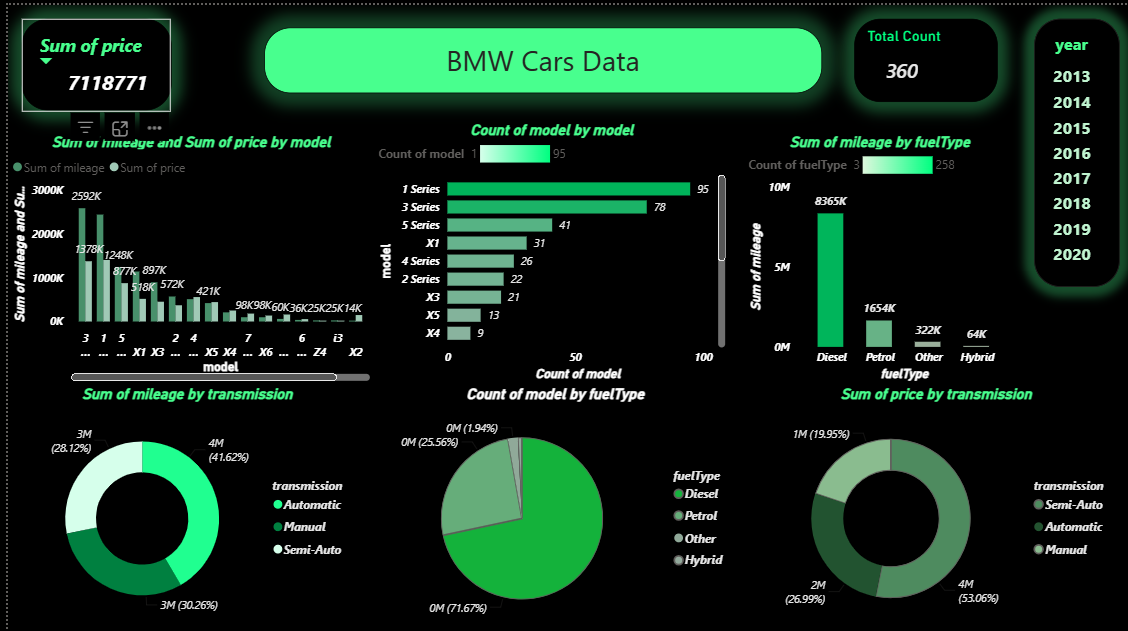

Layout of this report page (visuals, bound fields, positions):
{"tool":"powerbi","page":{"name":"Page 1","canvas":[1280,720],"ordinal":0},"visuals":[{"type":"barChart","fields":{"Category":["bmw.model"],"Y":["CountNonNull(bmw.model)"]},"box":[419.2,145.5,398.1,294.8],"z":0},{"type":"clusteredColumnChart","fields":{"Category":["bmw.fuelType"],"Y":["Sum(bmw.mileage)"]},"box":[841.2,145,310,288.8],"z":1000},{"type":"pieChart","fields":{"Category":["bmw.fuelType"],"Y":["CountNonNull(bmw.model)"]},"box":[410,433.8,431.2,286.2],"z":2000},{"type":"donutChart","fields":{"Category":["bmw.transmission"],"Y":["Sum(bmw.price)"]},"box":[841.2,433.8,438.8,286.2],"z":3000},{"type":"donutChart","fields":{"Category":["bmw.transmission"],"Y":["Sum(bmw.mileage)"]},"box":[0,433.8,410,286.2],"z":4000},{"type":"clusteredColumnChart","fields":{"Category":["bmw.model"],"Y":["Sum(bmw.mileage)","Sum(bmw.price)"]},"box":[0,145,418.8,288.8],"z":5000},{"type":"textbox","box":[292.5,26.2,637.5,75],"z":6000},{"type":"tableEx","fields":{"Values":["Sum(bmw.price)"]},"box":[15,16.2,171.2,105],"z":7000},{"type":"cardVisual","title":"Total Vehicles","fields":{"Data":["CountNonNull(bmw.model)"]},"box":[967.5,16.2,163.8,95],"z":8000},{"type":"tableEx","fields":{"Values":["bmw.year"]},"box":[1172.5,16.2,97.5,306.2],"z":9000}]}

Visuals, with their boxes in screenshot pixels (x1, y1, x2, y2), scaled from the page's 1280x720 canvas onto the 1128x631 screenshot:
barChart - bmw.model x CountNonNull(bmw.model): {"x1": 369, "y1": 128, "x2": 720, "y2": 386}
clusteredColumnChart - bmw.fuelType x Sum(bmw.mileage): {"x1": 741, "y1": 127, "x2": 1014, "y2": 380}
pieChart - bmw.fuelType x CountNonNull(bmw.model): {"x1": 361, "y1": 380, "x2": 741, "y2": 630}
donutChart - bmw.transmission x Sum(bmw.price): {"x1": 741, "y1": 380, "x2": 1127, "y2": 630}
donutChart - bmw.transmission x Sum(bmw.mileage): {"x1": 0, "y1": 380, "x2": 361, "y2": 630}
clusteredColumnChart - bmw.model x Sum(bmw.mileage): {"x1": 0, "y1": 127, "x2": 369, "y2": 380}
textbox: {"x1": 258, "y1": 23, "x2": 820, "y2": 89}
tableEx - Sum(bmw.price): {"x1": 13, "y1": 14, "x2": 164, "y2": 106}
"Total Vehicles" cardVisual: {"x1": 853, "y1": 14, "x2": 997, "y2": 97}
tableEx - bmw.year: {"x1": 1033, "y1": 14, "x2": 1119, "y2": 283}
